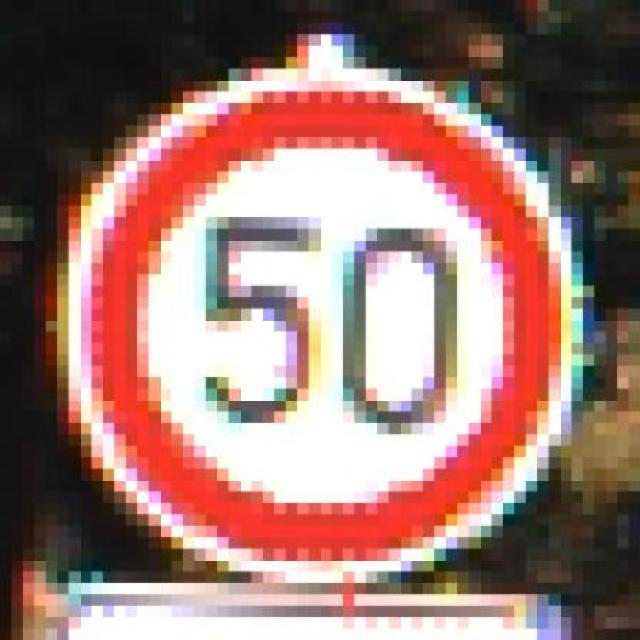50 mph speed limit: (45, 46, 618, 594)
